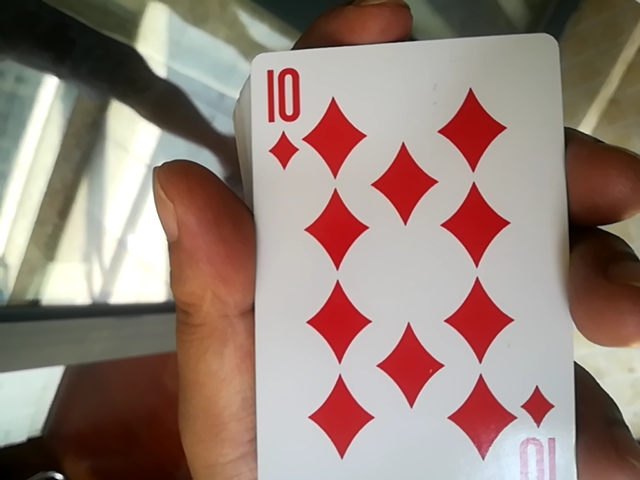fk 10: (231, 41, 605, 475)
